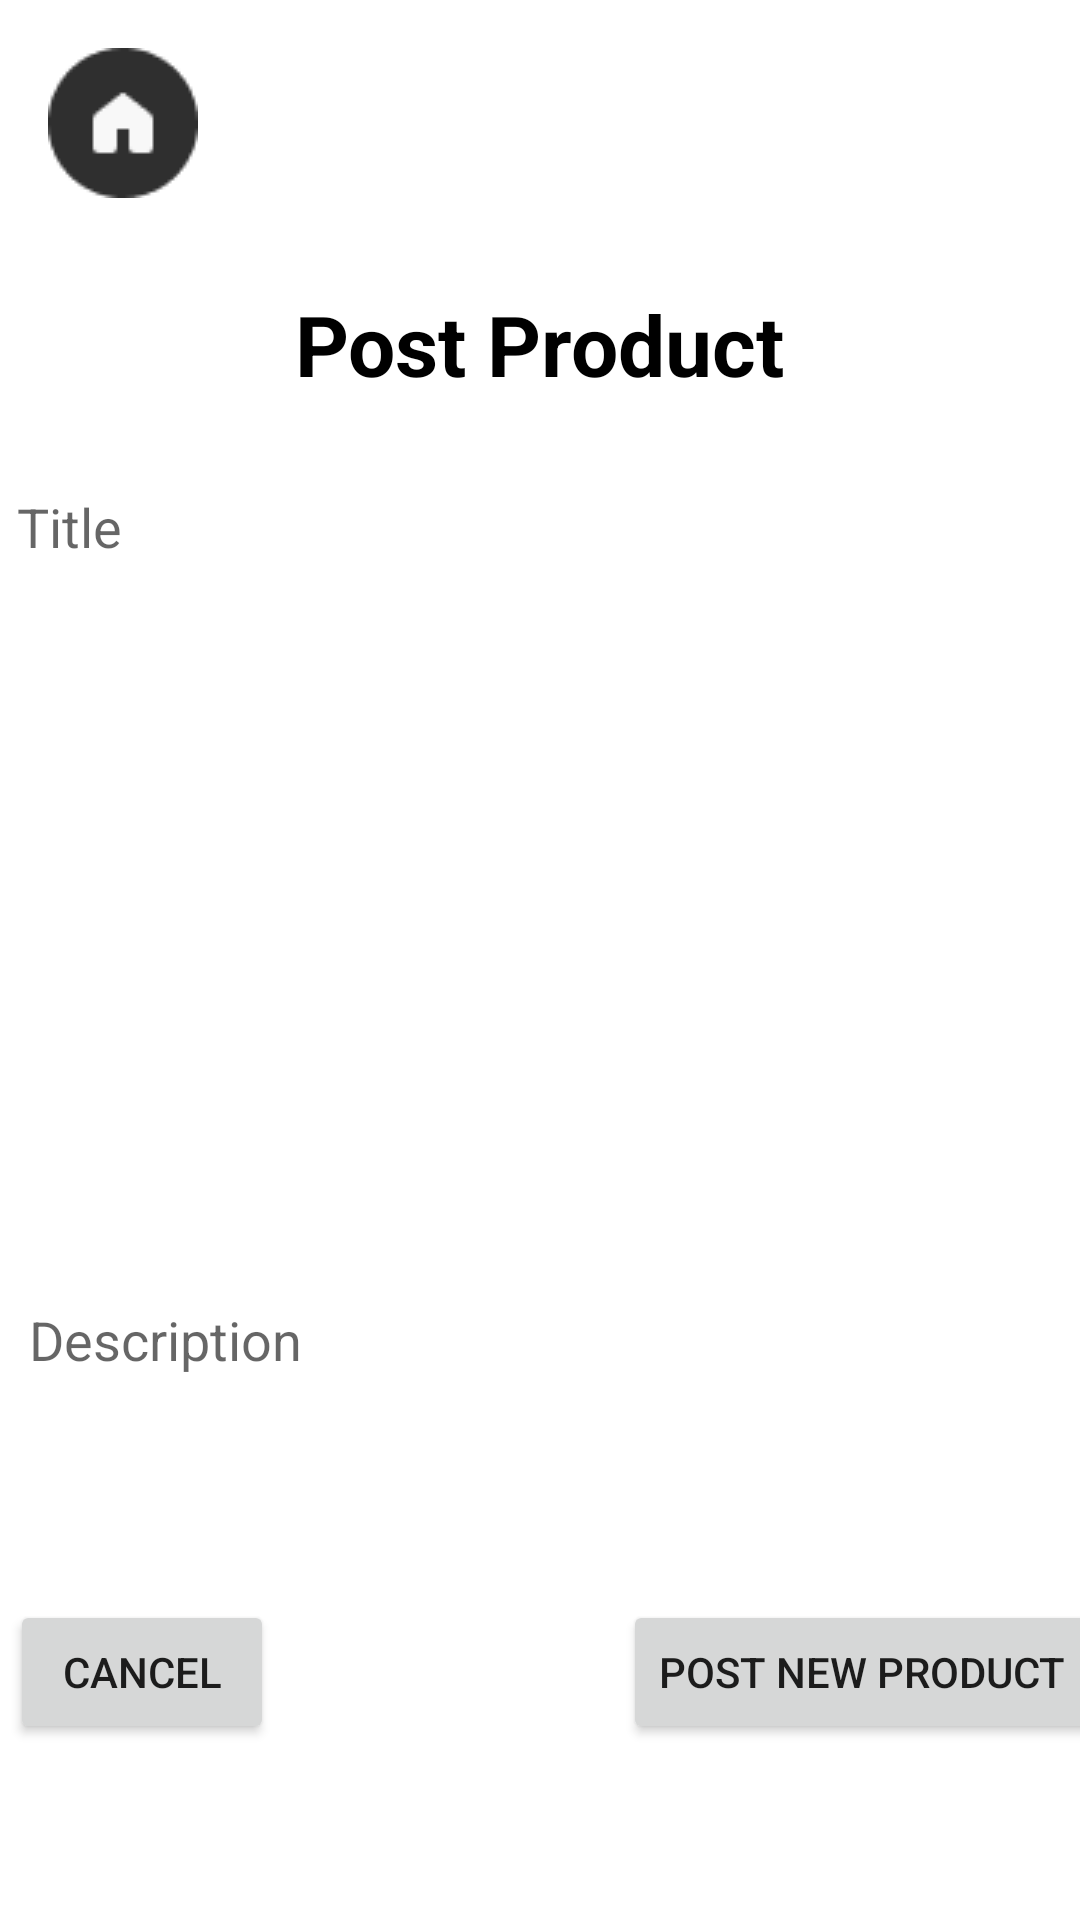

Icon bounding boxes for this 1080 x 1920 phone screenshot, format bbox=[x1, y1, x2, y2]:
home: bbox=[48, 48, 198, 198]
